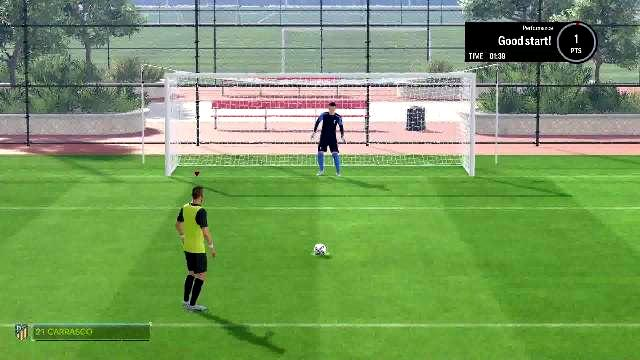bottom-left: (170, 128, 270, 176)
bottom-right: (370, 128, 470, 176)
center-down: (270, 128, 370, 176)
center-up: (270, 78, 370, 126)
circle: (312, 252, 330, 254)
football: (310, 243, 328, 257)
goalkeeper: (304, 99, 346, 179)
player: (172, 182, 220, 314)
top-left: (170, 78, 270, 126)
top-right: (370, 78, 470, 126)
